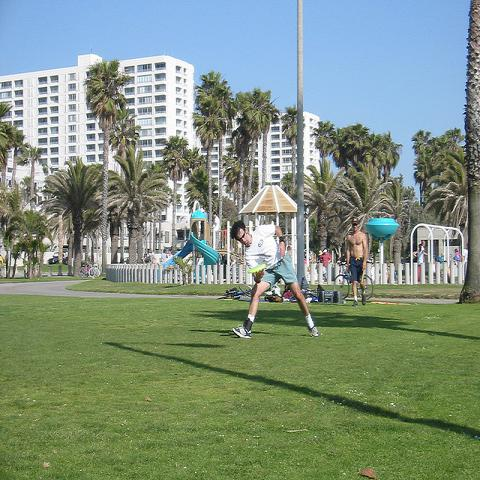car: (62, 248, 68, 265), (124, 256, 129, 264)
